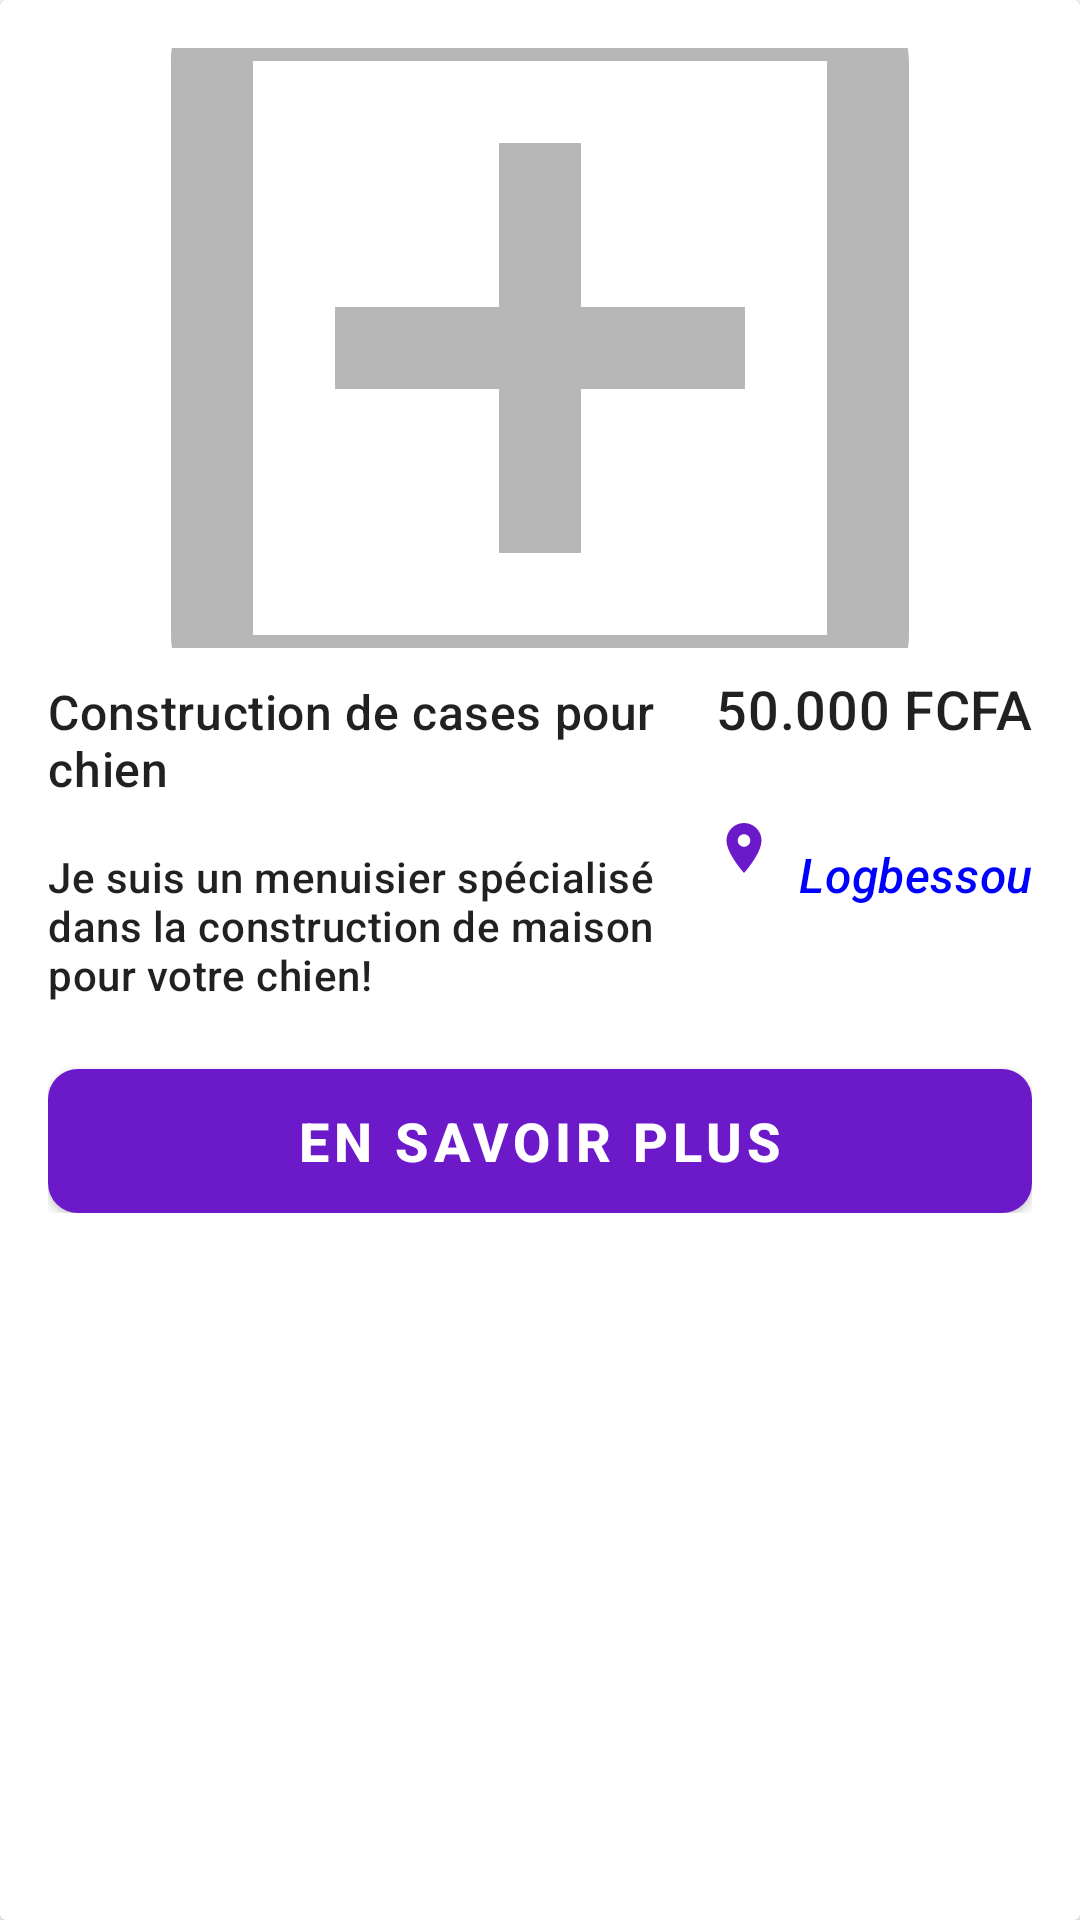

Icons on this 1080px x 1920px Android screen, each with its box as (x1, y1, x2, y2):
Position: (726, 823, 762, 873)
